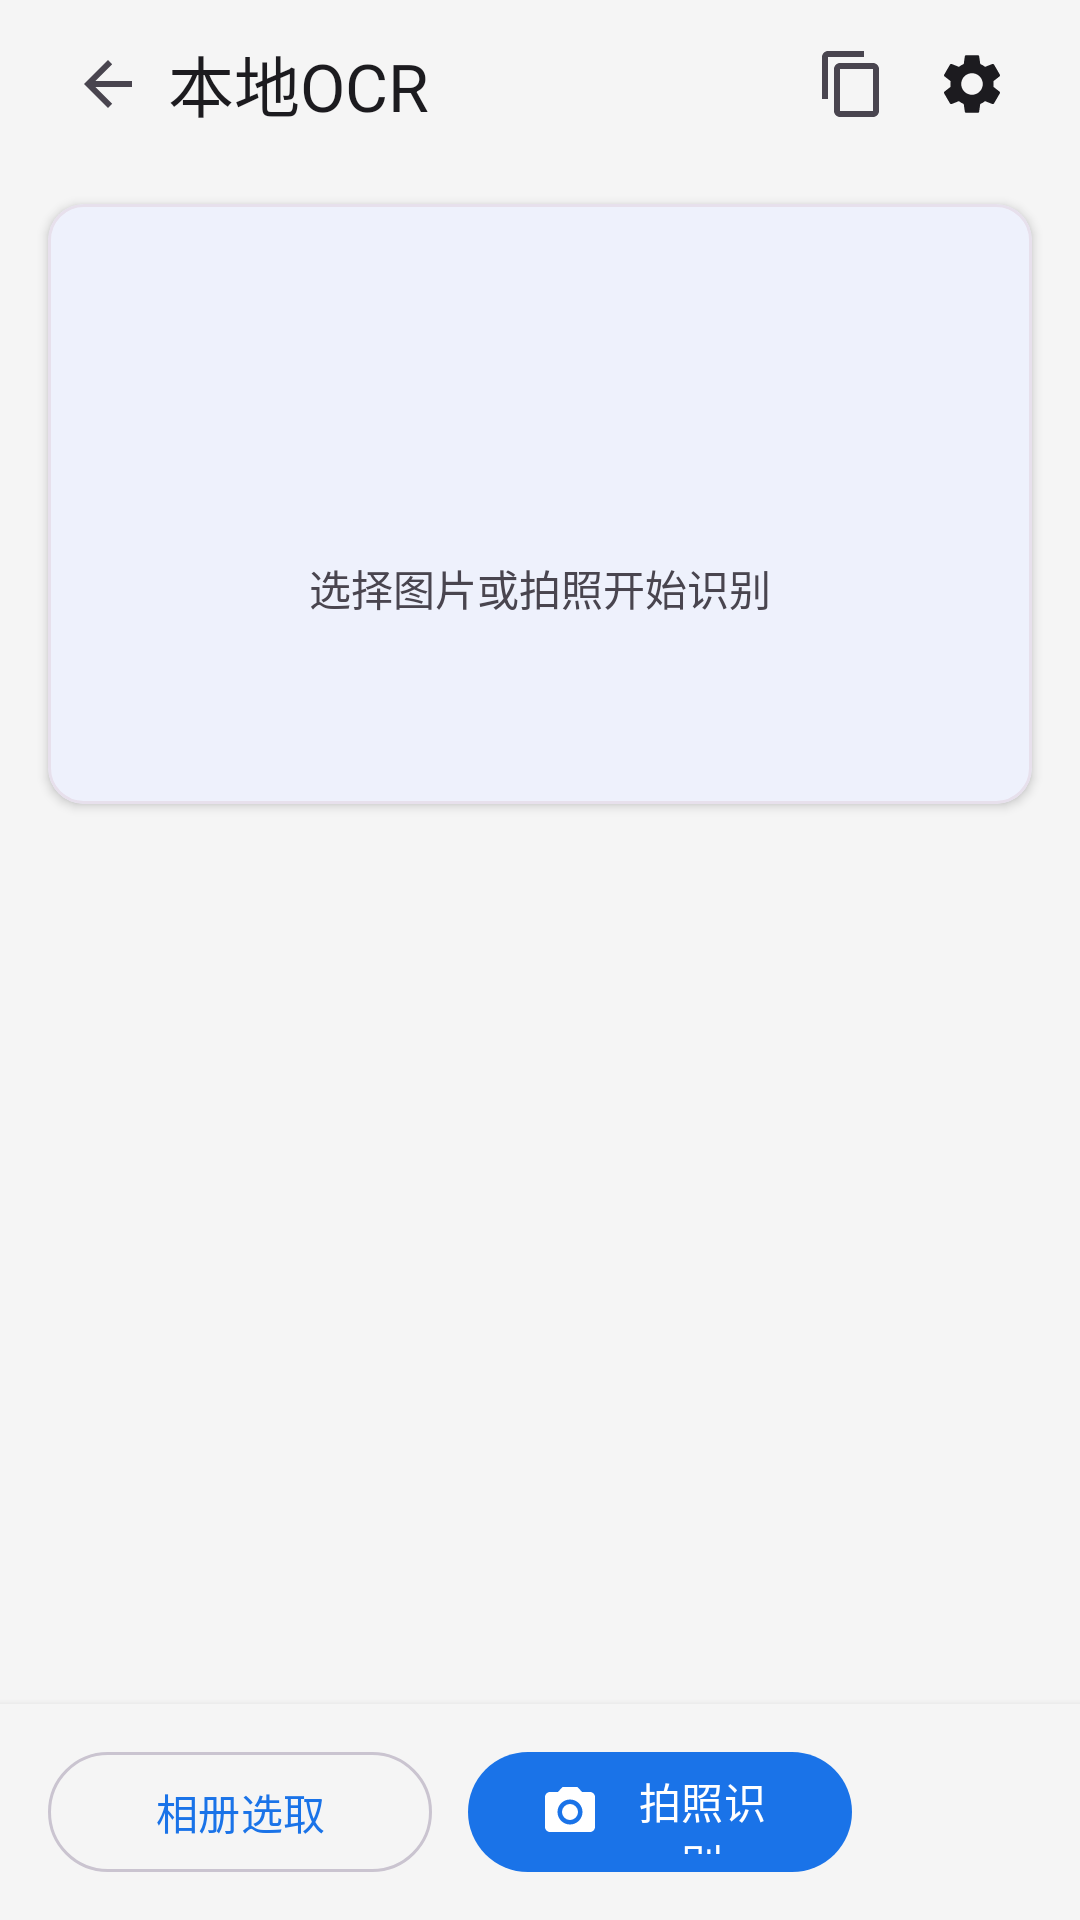

Icon bounding boxes for this 1080 x 1920 phone screenshot, format detection(x1, y1, x2, y2):
复制结果: detection(822, 51, 879, 117)
设置: detection(944, 55, 1000, 113)
返回: detection(84, 60, 132, 108)
